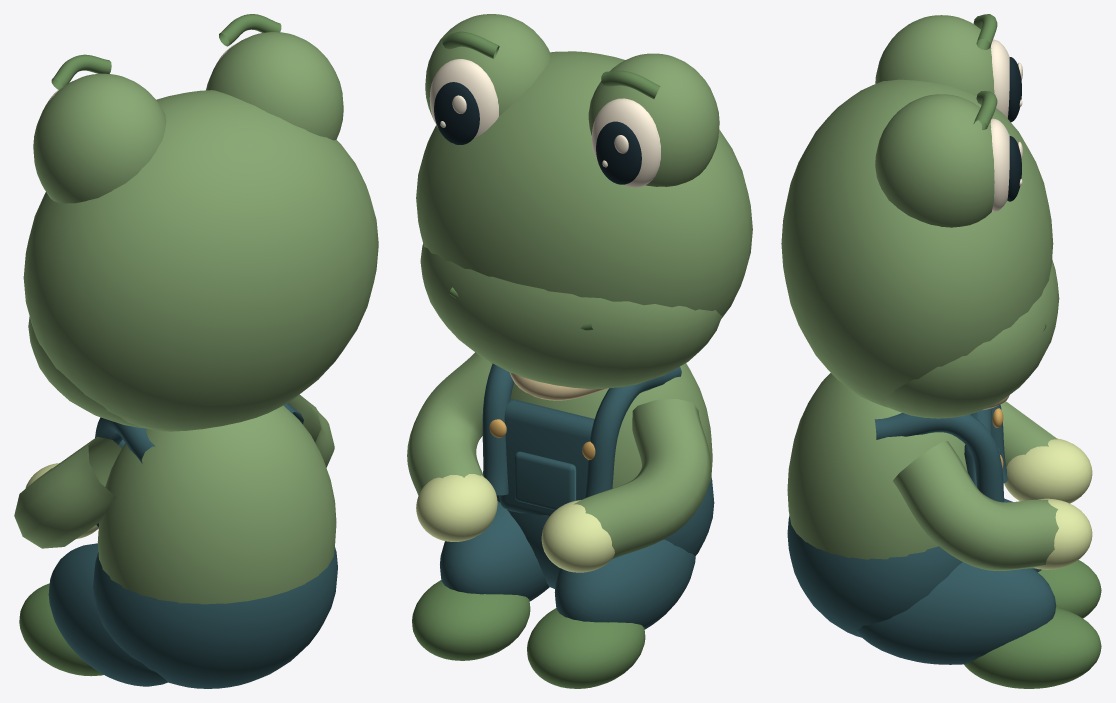
The model's file is grenouille.glb.
The picture shows the model from 3 angles, left to right: view 1: azimuth 30°, elevation 25°; view 2: azimuth 150°, elevation 25°; view 3: azimuth 270°, elevation 25°; orthographic projection. The views are drawn at different scales.
Parts seen in each view (by area): view 1: Crâne, Buste, Salopette, Chaussure, Sourcil; view 2: Crâne, Salopette, Buste, Chaussure, Patte, Blanc, Blanc.001, Iris.001, Iris, Sourcil, Col; view 3: Crâne, Buste, Salopette, Chaussure, Patte, Blanc.001, Sourcil, Blanc, Iris.001, Iris.
Boxes of the visible parts, x1,y1,x2,y2 form: Crâne: (23, 32, 378, 431); Buste: (14, 394, 336, 604); Salopette: (48, 403, 337, 688); Chaussure: (19, 583, 103, 676); Sourcil: (51, 14, 281, 89); Crâne: (416, 14, 752, 388); Salopette: (440, 363, 714, 629); Buste: (407, 352, 712, 558); Chaussure: (412, 580, 645, 688); Patte: (416, 474, 614, 572); Blanc: (591, 98, 660, 187); Blanc.001: (429, 59, 498, 143); Iris.001: (434, 82, 479, 144); Iris: (596, 121, 641, 184); Sourcil: (442, 31, 660, 330); Col: (510, 372, 608, 400); Crâne: (781, 15, 1059, 418); Buste: (787, 373, 1058, 570); Salopette: (787, 404, 1056, 664); Chaussure: (964, 560, 1101, 688); Patte: (1004, 438, 1092, 569); Blanc.001: (990, 118, 1022, 211); Sourcil: (973, 14, 1046, 330); Blanc: (991, 39, 1022, 118); Iris.001: (1007, 136, 1021, 201); Iris: (1008, 57, 1021, 122).
Bounding box in the file's own units: 1.18 × 2.18 × 1.06.
